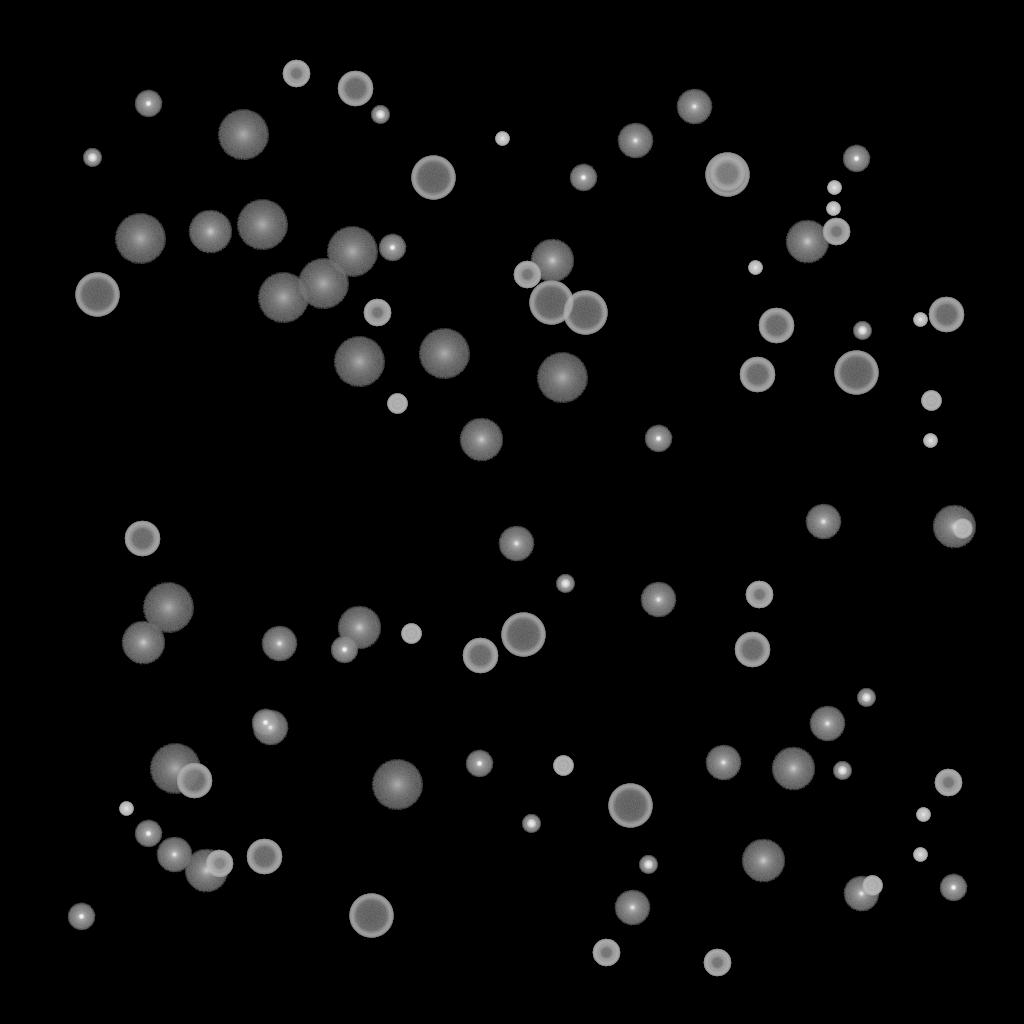depth:-10: (939, 874, 967, 902), (569, 164, 597, 192), (644, 425, 672, 453), (330, 636, 358, 664), (134, 820, 162, 848), (134, 90, 162, 118), (842, 145, 870, 173), (251, 709, 279, 737), (378, 234, 406, 262), (67, 903, 95, 931), (465, 750, 493, 778)
depth:-20: (522, 815, 540, 833), (833, 762, 851, 780), (556, 575, 574, 593), (639, 856, 657, 874), (857, 689, 875, 707), (371, 106, 389, 124), (853, 322, 871, 340), (83, 149, 101, 167)
depth:-30: (495, 132, 509, 146), (923, 434, 937, 448), (119, 802, 133, 816), (827, 181, 841, 195), (748, 261, 762, 275), (913, 848, 927, 862), (913, 313, 927, 327), (916, 808, 930, 822), (826, 202, 840, 216)
depth:-40: (921, 391, 941, 411), (952, 519, 972, 539), (387, 394, 407, 414), (862, 876, 882, 896), (401, 624, 421, 644), (553, 756, 573, 776)
depth:-50: (703, 949, 731, 977), (513, 261, 541, 289), (745, 581, 773, 609), (205, 850, 233, 878), (363, 299, 391, 327), (934, 769, 962, 797), (282, 60, 310, 88), (822, 218, 850, 246), (592, 939, 620, 967)
depth:-60: (758, 308, 794, 344), (176, 763, 212, 799), (462, 638, 498, 674), (124, 521, 160, 557), (928, 297, 964, 333), (246, 839, 282, 875), (739, 357, 775, 393), (734, 632, 770, 668), (709, 156, 745, 192), (337, 71, 373, 107)
depth:-70: (563, 291, 607, 335), (75, 273, 119, 317), (608, 784, 652, 828), (501, 613, 545, 657), (705, 153, 749, 197), (411, 156, 455, 200), (834, 351, 878, 395), (529, 281, 573, 325), (349, 894, 393, 938)
depth:0: (843, 876, 879, 912), (809, 706, 845, 742), (640, 582, 676, 618), (261, 626, 297, 662), (705, 745, 741, 781), (614, 890, 650, 926), (676, 89, 712, 125), (252, 710, 288, 746), (156, 837, 192, 873), (498, 526, 534, 562), (805, 504, 841, 540), (617, 123, 653, 159)
depth:10: (771, 747, 815, 791), (530, 239, 574, 283), (188, 210, 232, 254), (337, 606, 381, 650), (121, 621, 165, 665), (184, 849, 228, 893), (785, 220, 829, 264), (459, 418, 503, 462), (932, 505, 976, 549), (741, 839, 785, 883)
depth:20: (149, 744, 201, 794), (418, 329, 470, 379), (217, 110, 269, 160), (536, 353, 588, 403), (371, 760, 423, 810), (236, 200, 288, 250), (326, 227, 378, 277), (297, 259, 349, 309), (333, 337, 385, 387), (114, 214, 166, 264), (257, 273, 309, 323), (142, 583, 194, 633)
